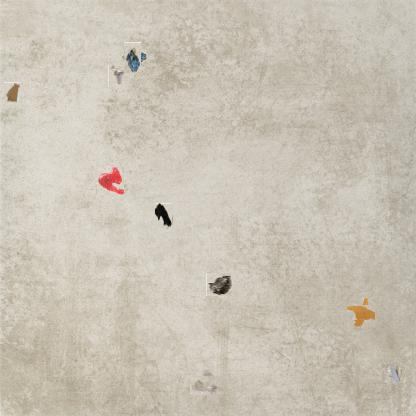dirty: (194, 371, 221, 399), (206, 272, 233, 296), (120, 46, 145, 70), (381, 362, 403, 384), (108, 66, 129, 88), (154, 203, 172, 228), (4, 82, 20, 103)
liquid: (96, 165, 124, 195), (350, 301, 372, 323)
